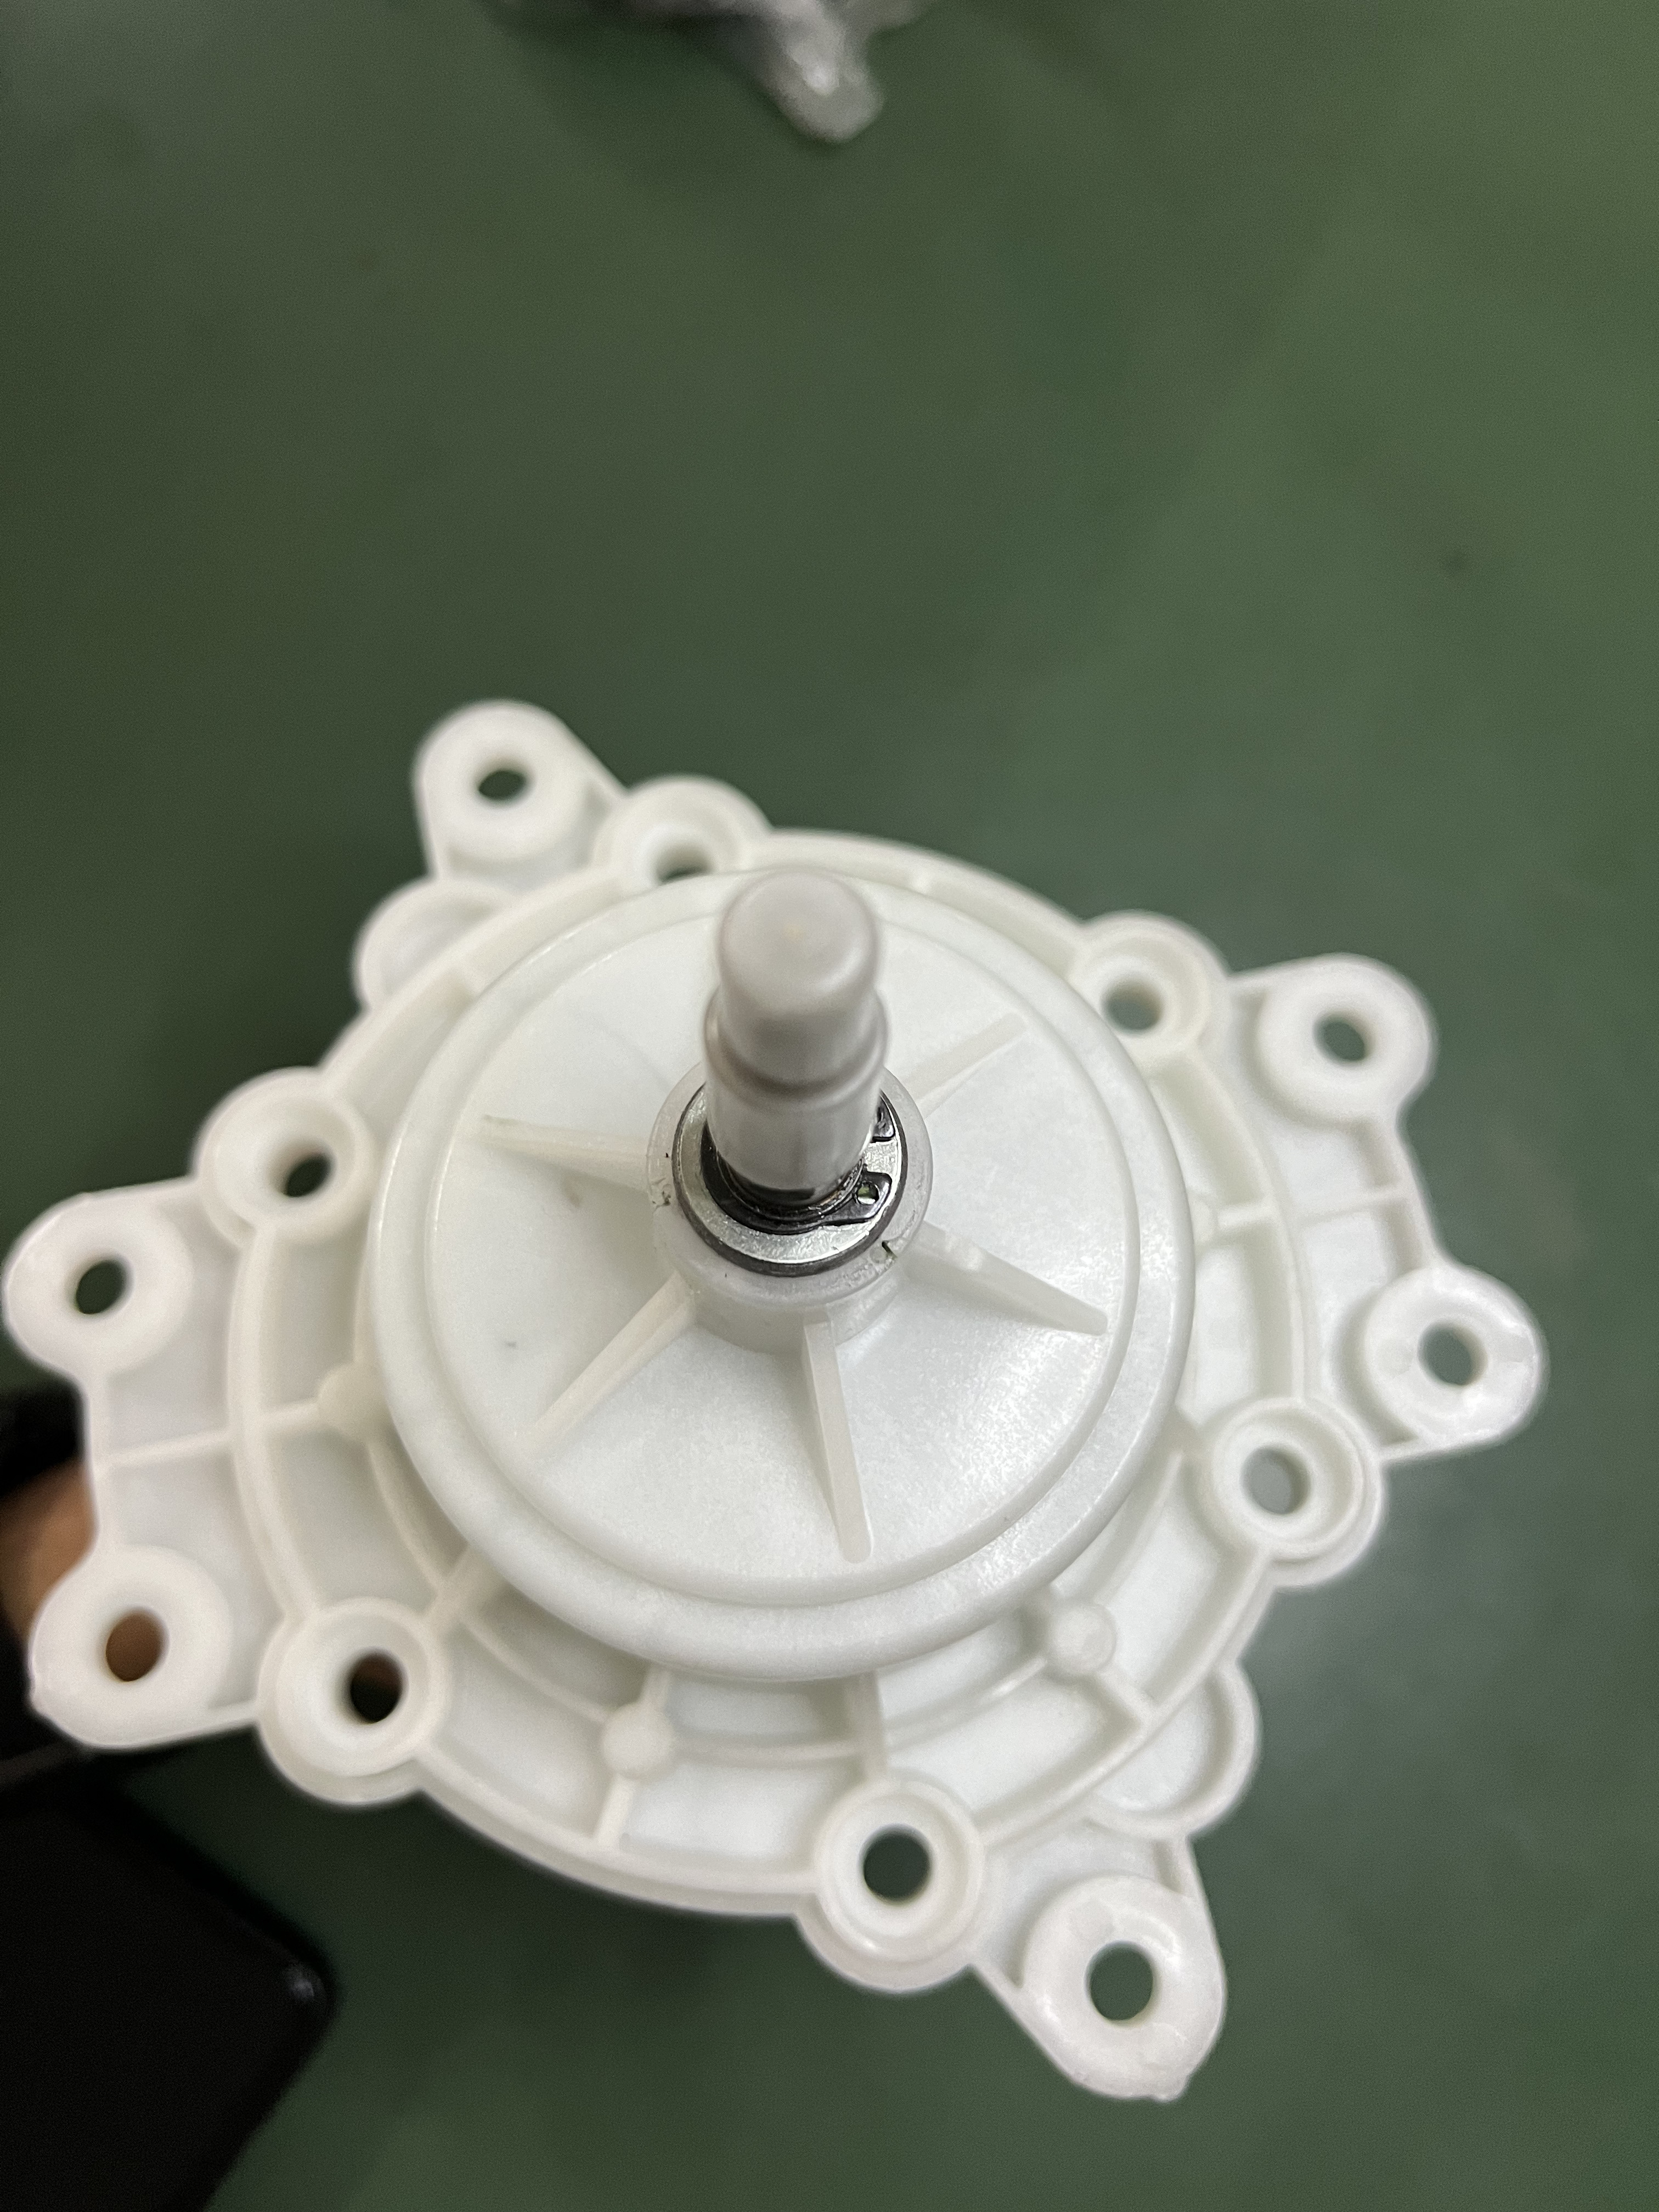gear_box_design: (52, 698, 1553, 2109)
